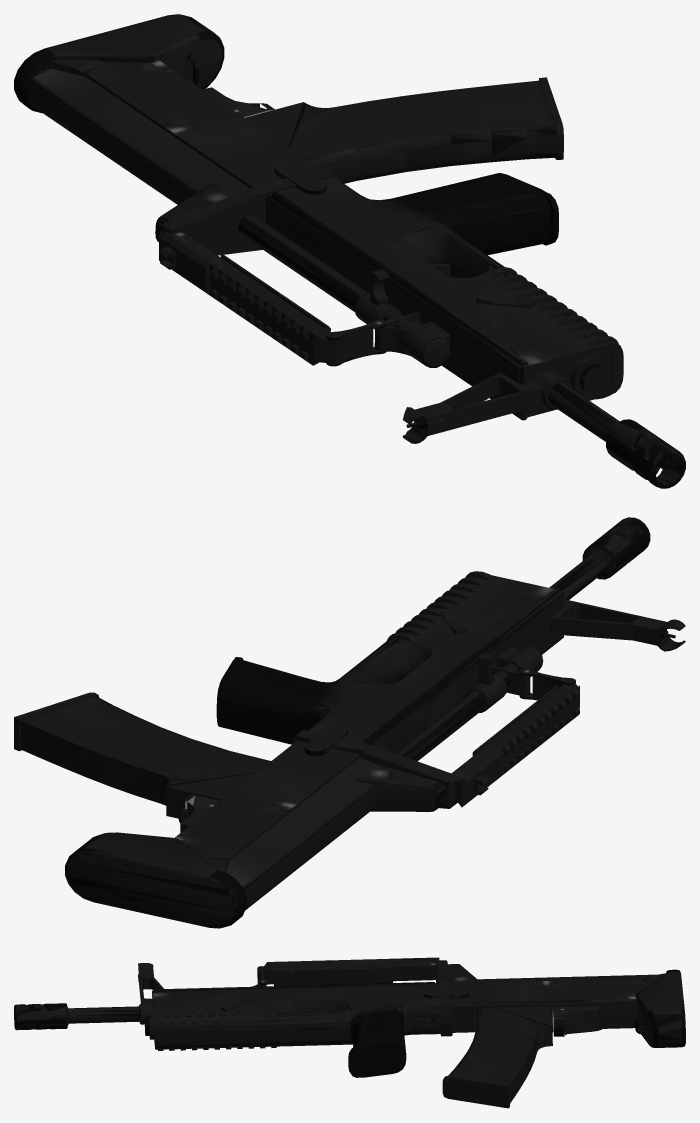
The model's file is rifle.glb.
3 views of the same model, one above another, from view 1: azimuth 30°, elevation 25°; view 2: azimuth 150°, elevation 25°; view 3: azimuth 270°, elevation 25° (orthographic). The views are drawn at different scales.
Visible parts, largest first — view 1: TR21 assault rifle.002; view 2: TR21 assault rifle.002; view 3: TR21 assault rifle.002.
Part boxes in pixels (<box>): TR21 assault rifle.002: <box>14,14,685,488</box>; TR21 assault rifle.002: <box>14,517,685,928</box>; TR21 assault rifle.002: <box>14,957,685,1108</box>.
Size of the model in its own units: 0.2992 by 0.0478 by 0.631.
1 material, 1 textured.
